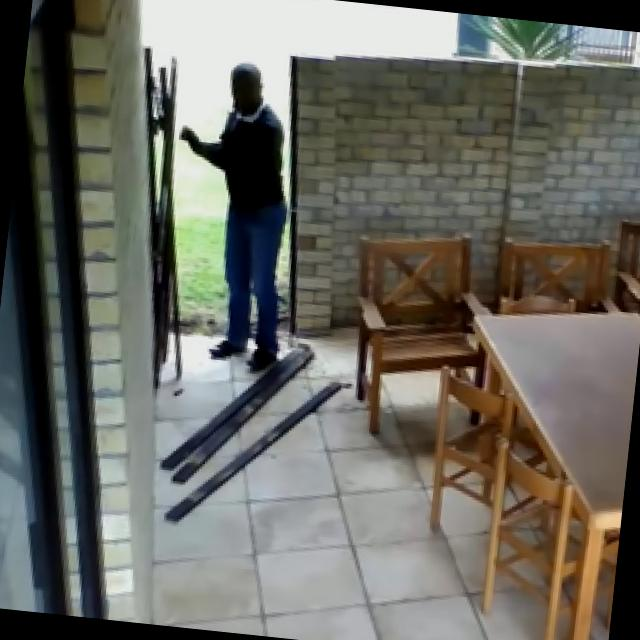person: (154, 54, 308, 373)
